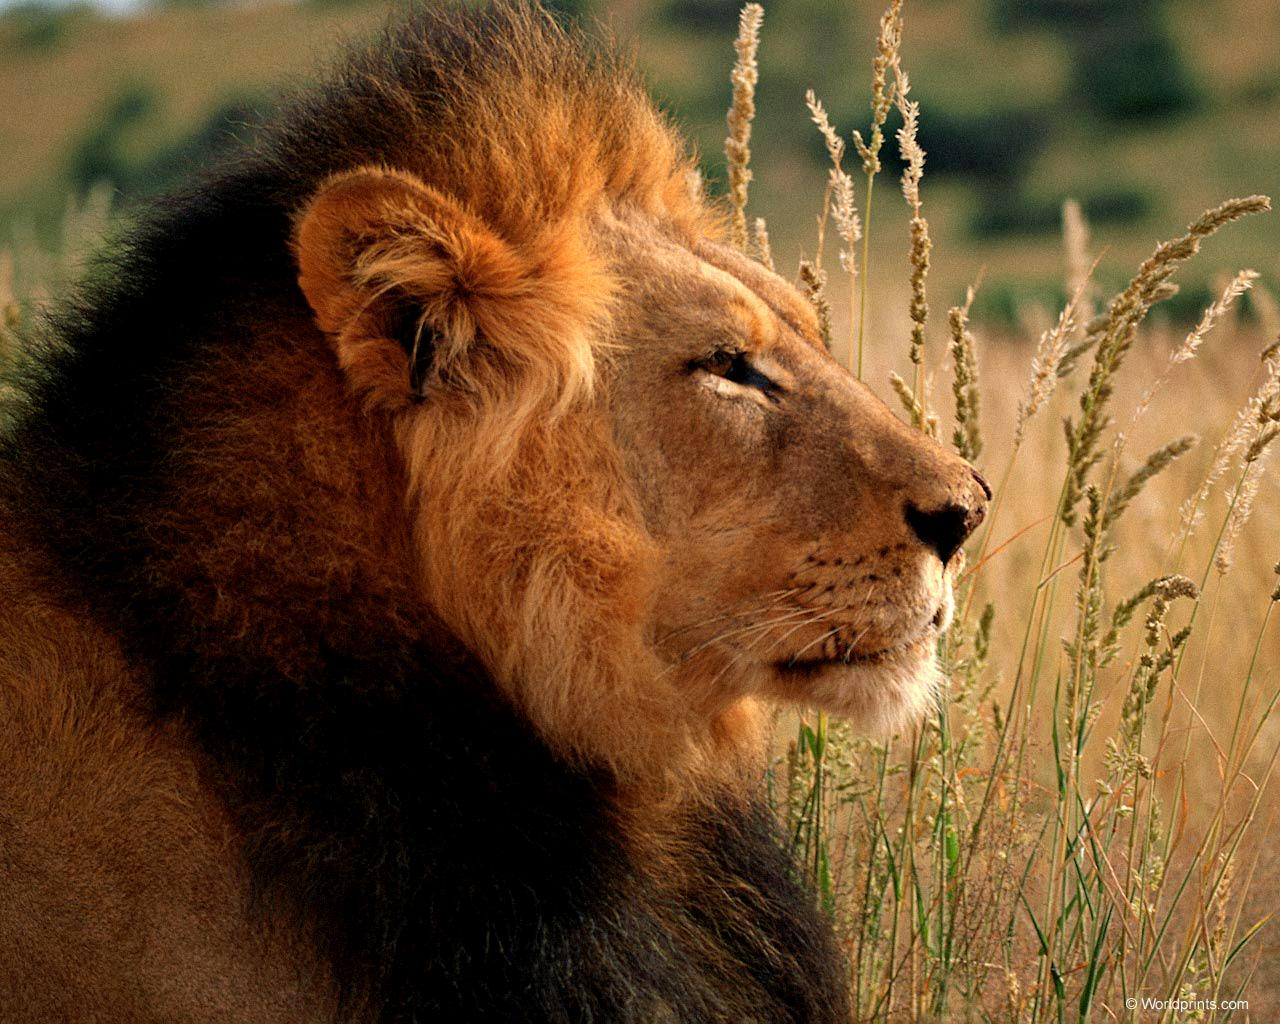lions: (0, 0, 1073, 1024)
